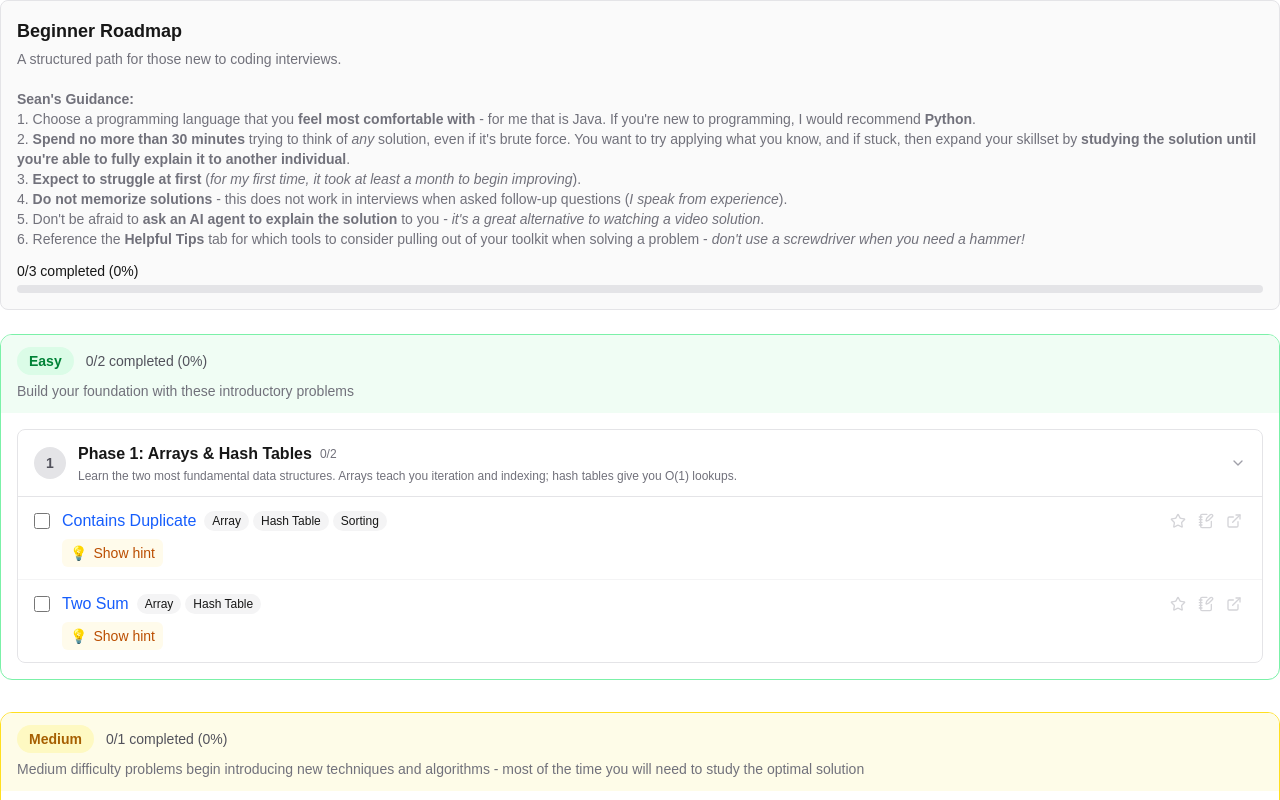
Test case: RoadmapView › note modal shows unsaved changes warning on cancel
The width and height of the screenshot is (1280, 800).
Click the button titled "Add note" in the row of "Contains Duplicate".
click(1206, 521)  # box [1194,509,1218,533]
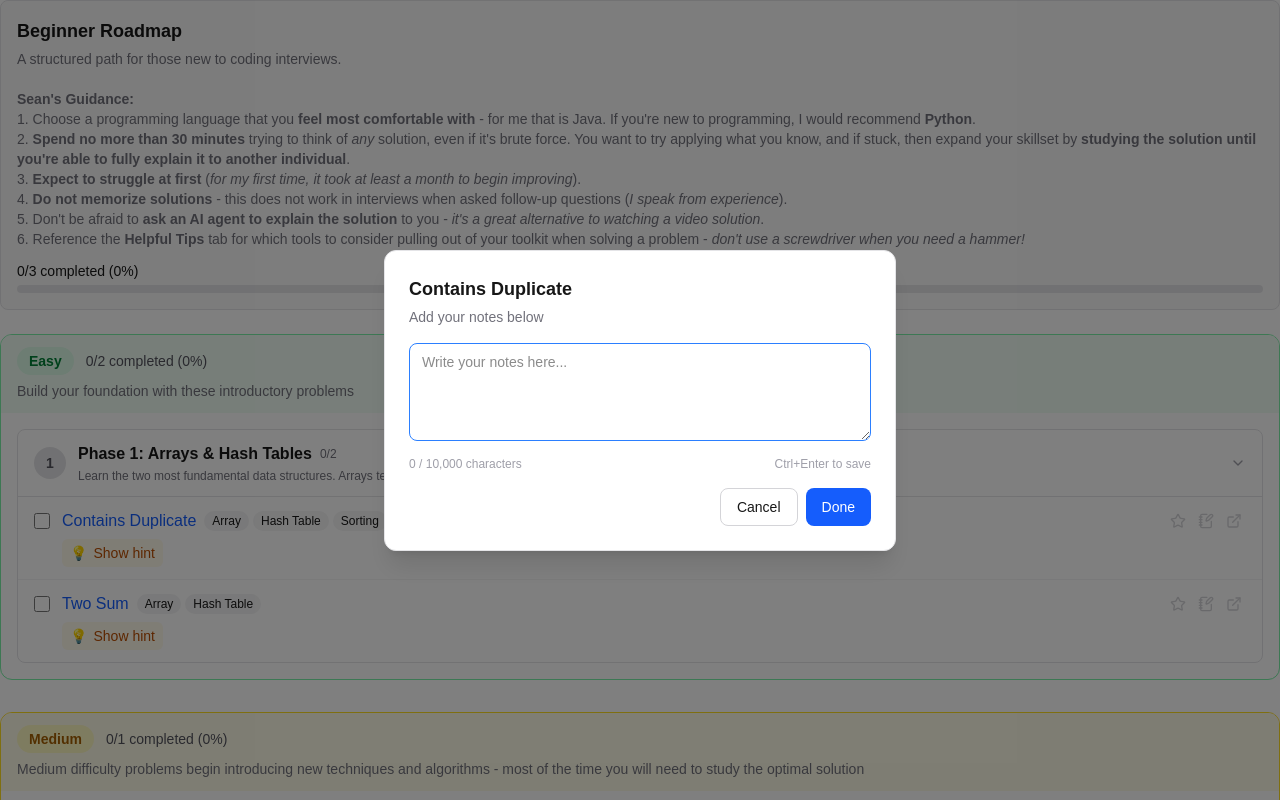
Type "unsaved text" into the text box with placeholder "Write your notes here...".
click(640, 392); type("unsaved text")  # box [409,342,871,440]
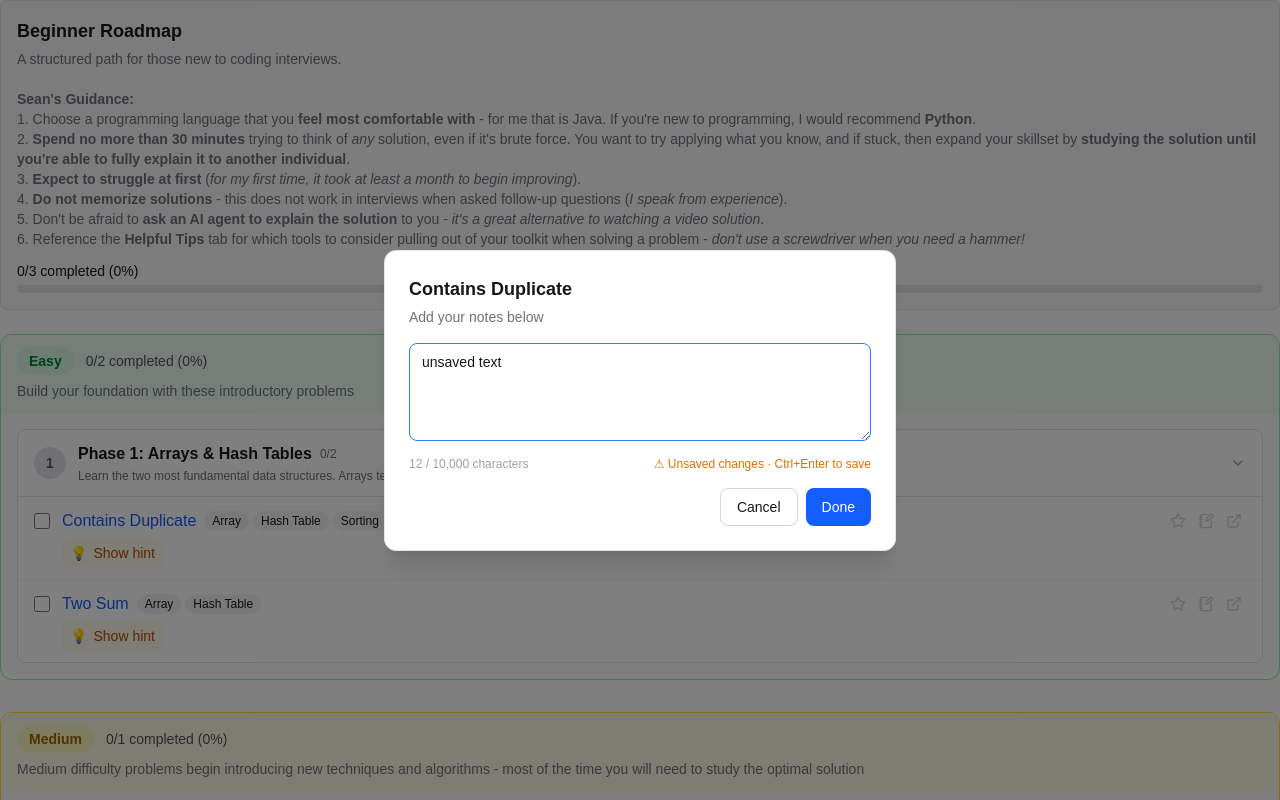
Click the button "Cancel".
click(759, 506)  # box [720,488,798,526]
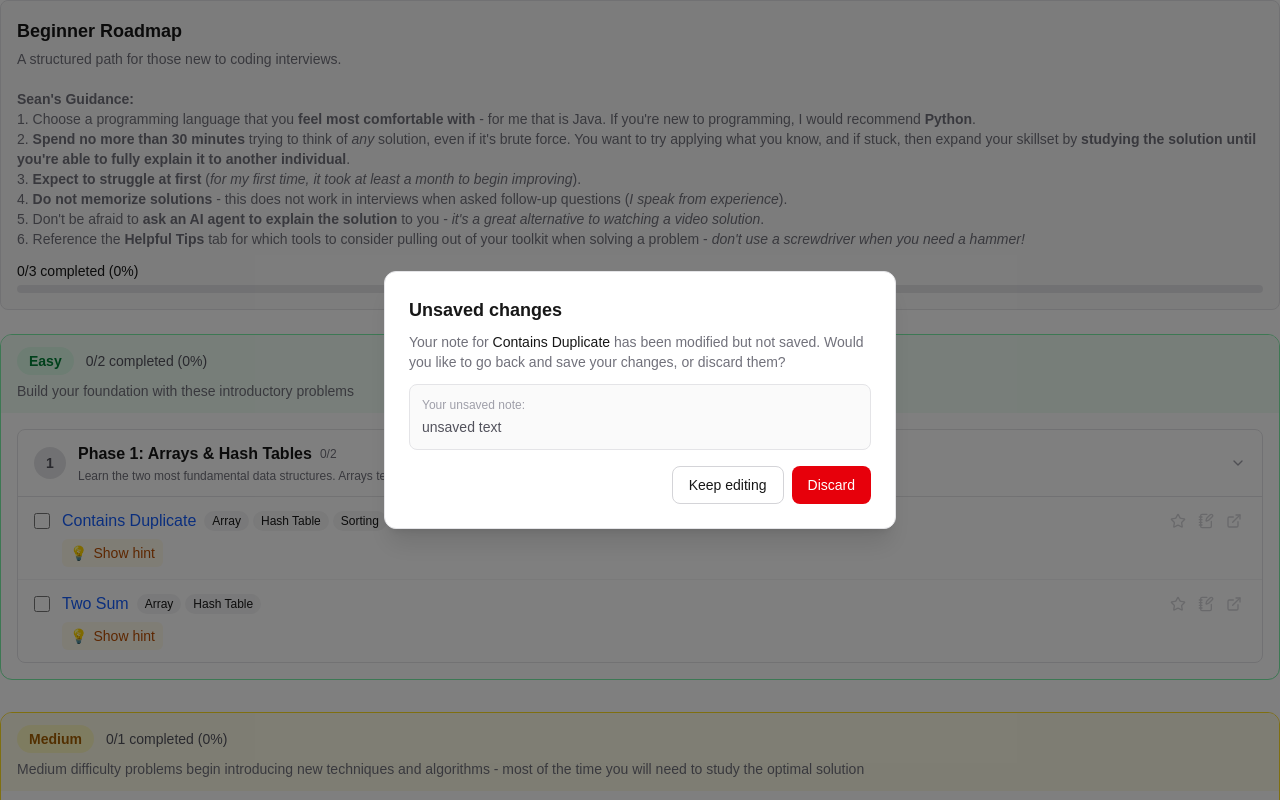
expect the heading "Unsaved changes" is shown: met, box [409,300,562,320]
